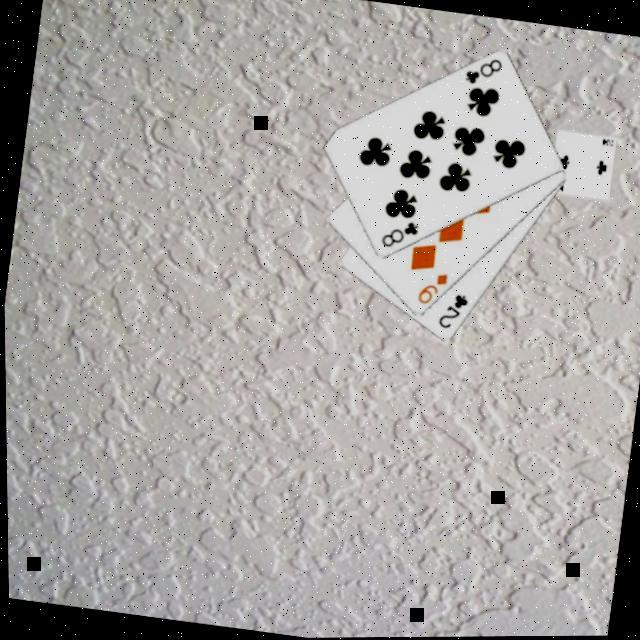2C: (433, 288, 473, 334)
8C: (377, 215, 423, 255), (461, 51, 507, 91)
9D: (413, 267, 452, 311)
